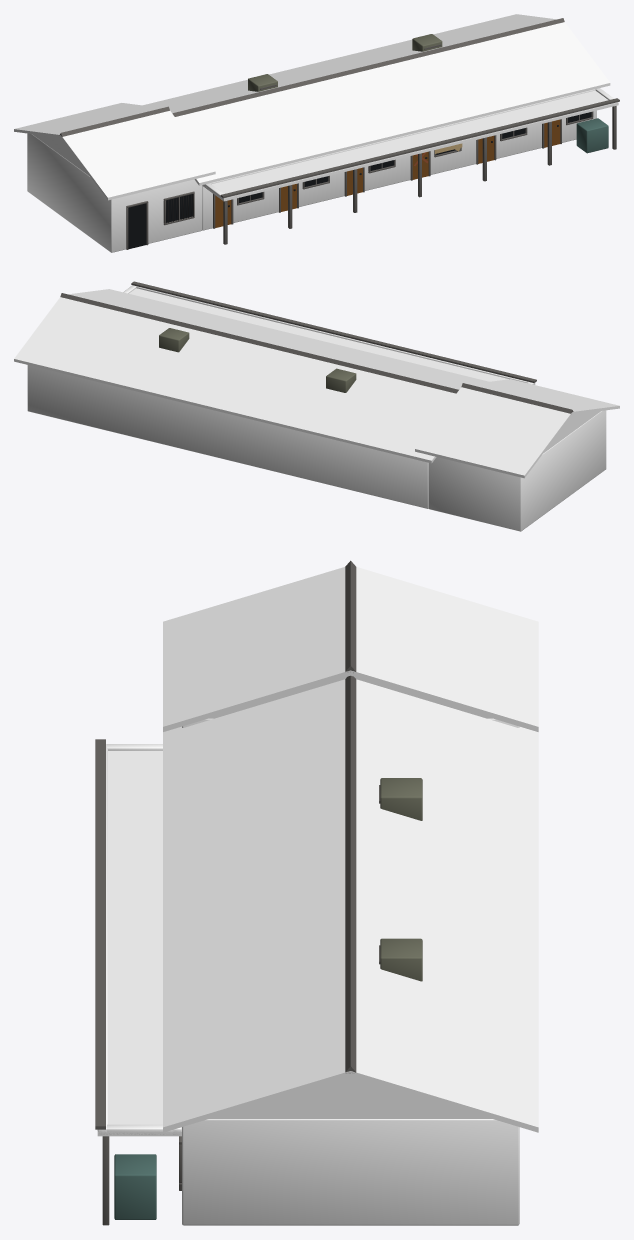
The model's file is bld_motel.glb.
3 views of the same model, one above another, from view 1: azimuth 30°, elevation 25°; view 2: azimuth 150°, elevation 25°; view 3: azimuth 270°, elevation 25° (orthographic). The views are drawn at different scales.
Parts seen in each view (by area): view 1: mo_roof_front, mo_oroof_front, mo_office, mo_walk_deck, mo_rooms, mo_roof_back, mo_roof_cap, mo_walk_coping, mo_oroof_back, mo_bin, mo_odoor, mo_walk_parapet.001 (+7 smaller); view 2: mo_roof_back, mo_rooms, mo_office, mo_oroof_back, mo_roof_front, mo_walk_deck, mo_roof_cap, mo_walk_coping, mo_oroof_front, mo_walk_parapet, mo_oroof_cap, mo_cool (+2 smaller); view 3: mo_roof_front, mo_roof_back, mo_rooms, mo_walk_deck, mo_oroof_back, mo_oroof_front, mo_roof_gable, mo_roof_cap, mo_walk_coping, mo_bin, mo_cool.001, mo_cool (+1 smaller).
Boxes of the visible parts, x1,y1,x2,y2 form: mo_roof_front: (175,22,610,185); mo_oroof_front: (61,111,215,200); mo_office: (27,133,202,252); mo_walk_deck: (202,90,618,201); mo_rooms: (202,110,596,230); mo_roof_back: (143,14,556,113); mo_roof_cap: (172,18,564,116); mo_walk_coping: (220,98,619,198); mo_oroof_back: (14,103,161,137); mo_bin: (576,118,608,153); mo_odoor: (128,203,146,249); mo_walk_parapet.001: (203,89,595,186); mo_roof_back: (14,297,455,463); mo_rooms: (27,365,428,508); mo_office: (428,410,606,531); mo_oroof_back: (415,387,572,478); mo_roof_front: (68,289,488,389); mo_walk_deck: (129,288,535,384); mo_roof_cap: (60,293,458,393); mo_walk_coping: (131,281,536,382); mo_oroof_front: (469,379,619,414); mo_walk_parapet: (136,286,532,382); mo_oroof_cap: (461,383,573,413); mo_cool: (326,368,356,392); mo_roof_front: (163,679,350,1132); mo_roof_back: (350,679,538,1132); mo_rooms: (182,1119,519,1225); mo_walk_deck: (97,751,181,1136); mo_oroof_back: (350,567,538,731); mo_oroof_front: (163,567,350,731); mo_roof_gable: (209,1076,491,1118); mo_roof_cap: (345,675,356,1073); mo_walk_coping: (95,739,105,1129); mo_bin: (114,1154,156,1219); mo_cool.001: (380,938,422,981); mo_cool: (380,778,422,820).
Bounding box in the file's own units: 27.5 × 4.79 × 10.5.
